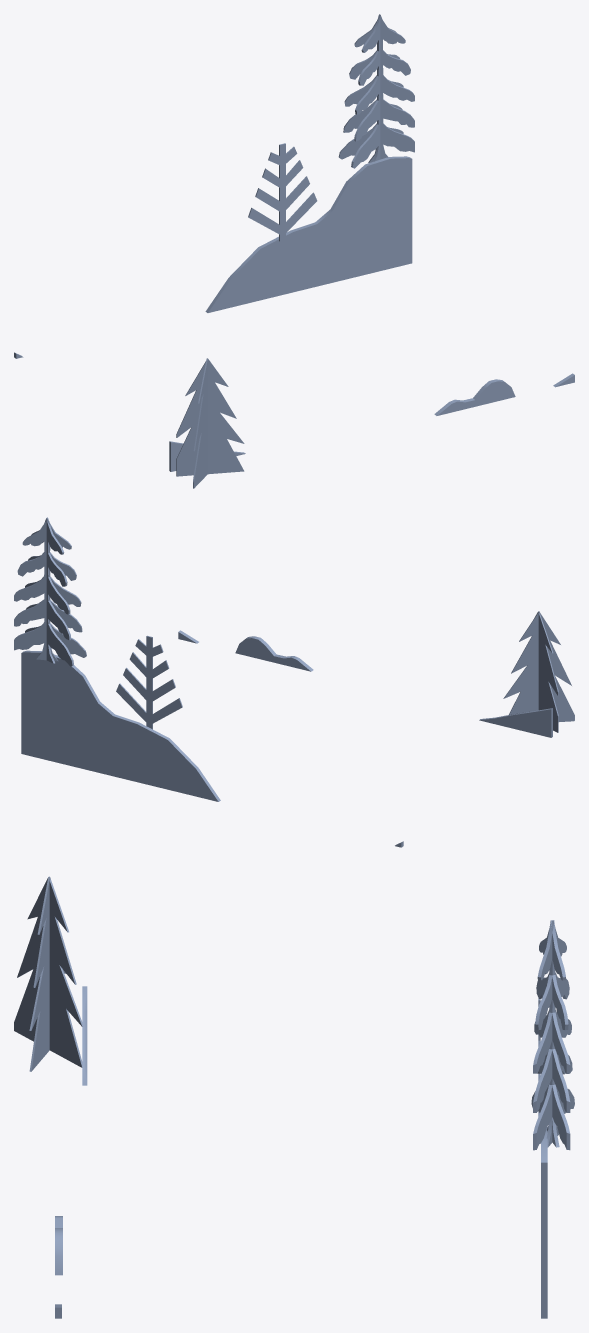
The model's file is frame_0148.glb.
3 renders of one model, top to bottom at view 1: azimuth 30°, elevation 25°; view 2: azimuth 150°, elevation 25°; view 3: azimuth 270°, elevation 25°, orthographic. The views are drawn at different scales.
Visible parts, largest first — view 1: export_trees_001.002; view 2: export_trees_001.002; view 3: export_trees_001.002.
Boxes of the visible parts, x1=… form: export_trees_001.002: x1=14, y1=14, x2=574, y2=488; export_trees_001.002: x1=14, y1=517, x2=574, y2=847; export_trees_001.002: x1=14, y1=876, x2=574, y2=1318.
Bounding box in the file's own units: 0.4327 × 0.2648 × 0.3566.
